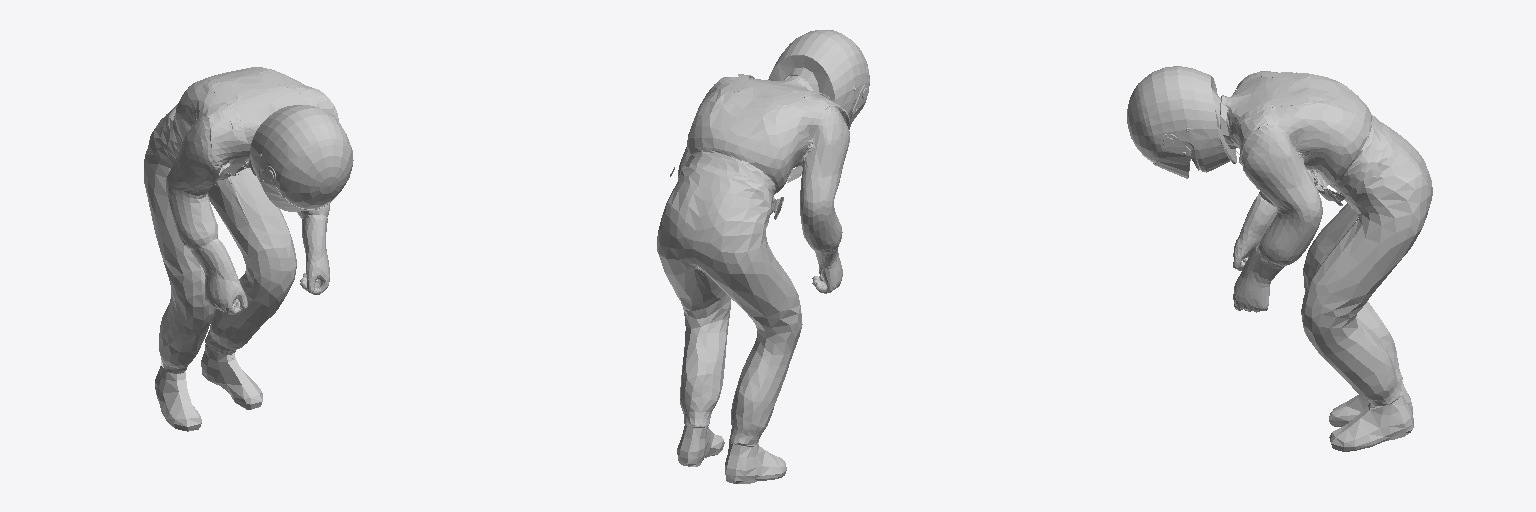
The model's file is GTR_Driver2Smooth.obj.
The picture shows the model from 3 angles: view 1: azimuth 30°, elevation 25°; view 2: azimuth 150°, elevation 25°; view 3: azimuth 270°, elevation 25°; orthographic projection.
Visible parts, largest first — view 1: Object.1, Object.5, Object.7, Object.6; view 2: Object.1, Object.5, Object.6, Object.7; view 3: Object.1, Object.5, Object.7, Object.6.
Part boxes in pixels (left/top/right/bottom): Object.1: left=144, top=67, right=338, bottom=373; Object.5: left=249, top=105, right=353, bottom=211; Object.7: left=201, top=344, right=262, bottom=409; Object.6: left=155, top=360, right=201, bottom=431; Object.1: left=657, top=74, right=850, bottom=444; Object.5: left=768, top=30, right=869, bottom=124; Object.6: left=725, top=442, right=786, bottom=483; Object.7: left=677, top=425, right=724, bottom=466; Object.1: left=1222, top=71, right=1432, bottom=407; Object.5: left=1127, top=66, right=1238, bottom=178; Object.7: left=1329, top=395, right=1413, bottom=451; Object.6: left=1329, top=381, right=1412, bottom=426.
Size of the model in its own units: 12.95 by 30.19 by 22.63.